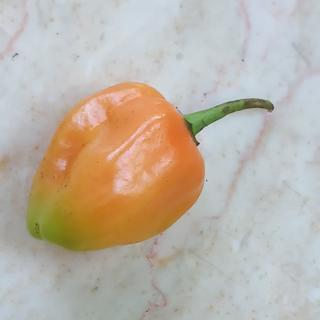Grade-A: (23, 75, 212, 254)
